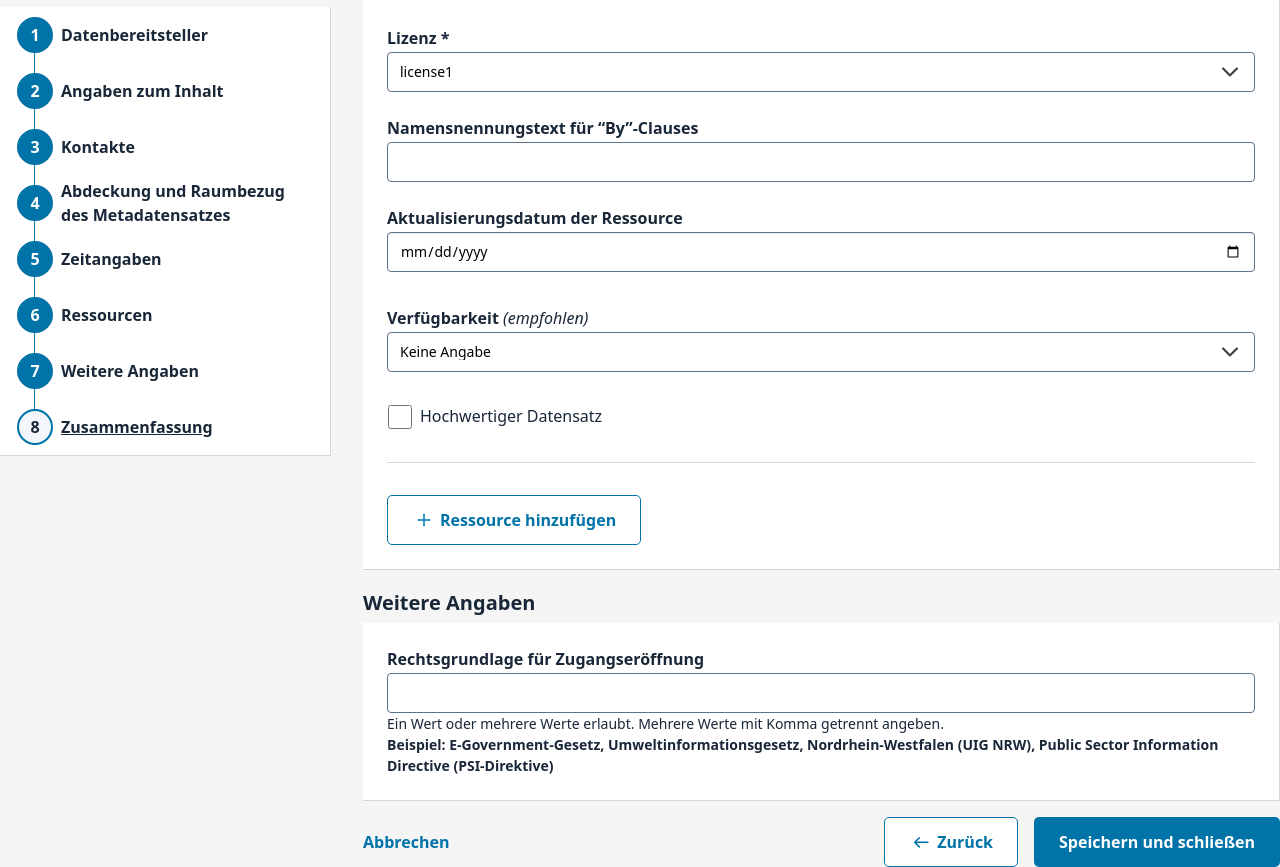
MetadataForm › should show an invalid tag error after a failed request
(page scrolled)
Click the button "Speichern und schließen" at (1157, 842), box [1034,817,1279,866]
(page scrolled)
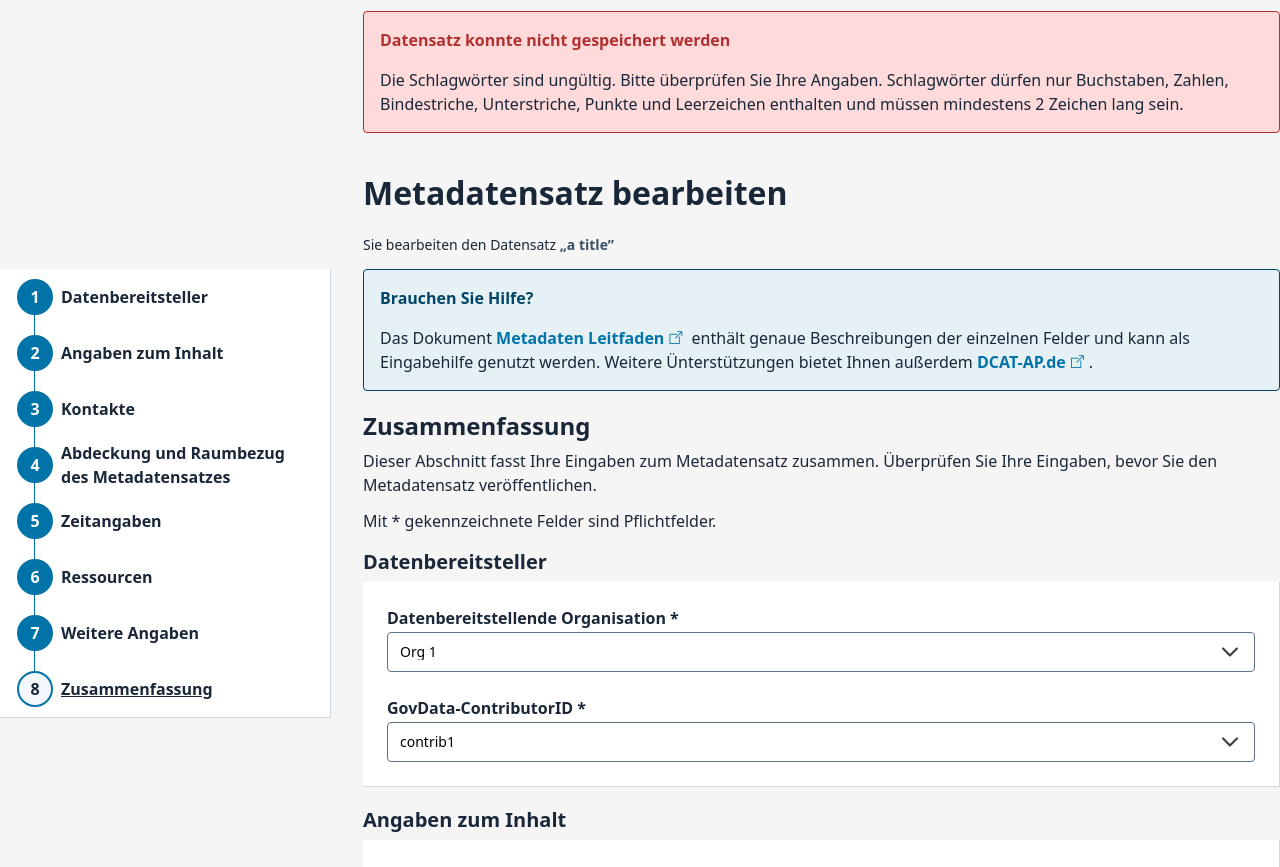
Expected: the text "Die Schlagwörter sind ungültig." is shown, [380,69,1229,115]
